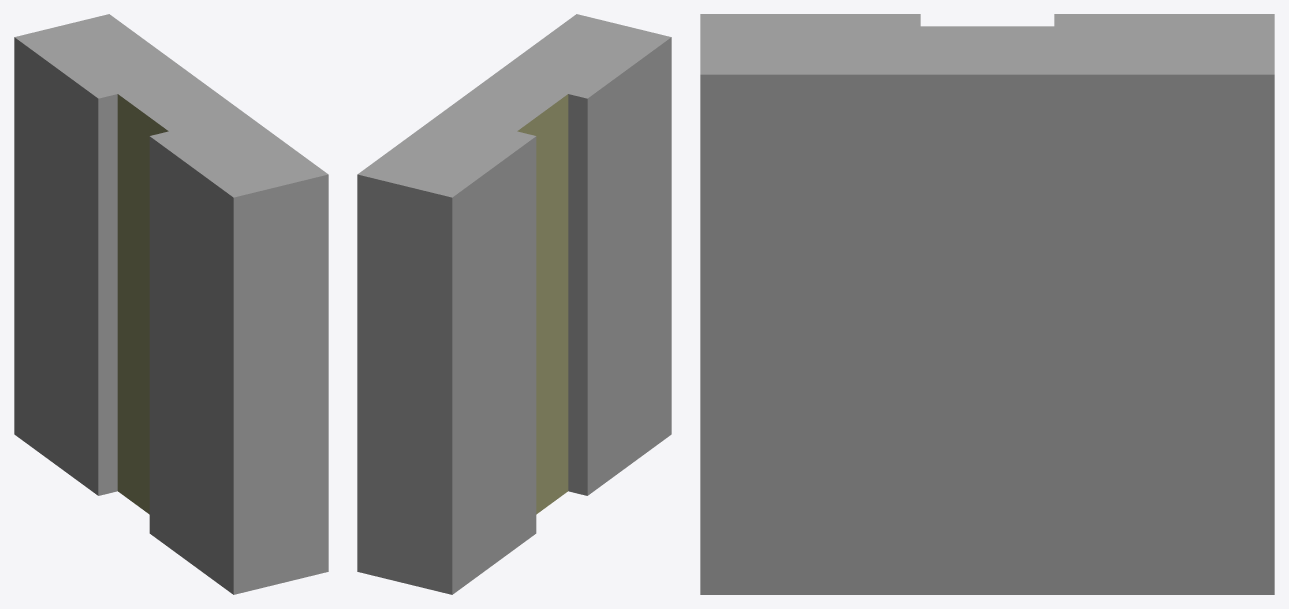
The model's file is CM_SmallGlowingStrait4x4.fbx.
3 renders of one model, left to right at view 1: azimuth 30°, elevation 25°; view 2: azimuth 150°, elevation 25°; view 3: azimuth 270°, elevation 25°, orthographic. The views are drawn at different scales.
Parts seen in each view (by area): view 1: CM_SmallGlowingStrait4x4; view 2: CM_SmallGlowingStrait4x4; view 3: CM_SmallGlowingStrait4x4.
Boxes of the visible parts, <box> form: CM_SmallGlowingStrait4x4: <box>14,14,328,594</box>; CM_SmallGlowingStrait4x4: <box>357,14,671,594</box>; CM_SmallGlowingStrait4x4: <box>700,14,1274,594</box>.
Bounding box in the file's own units: 100 × 400 × 400.
